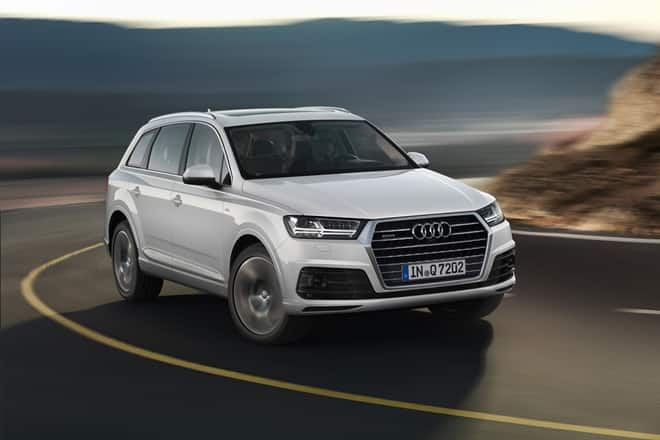number_plate: (400, 257, 470, 285)
